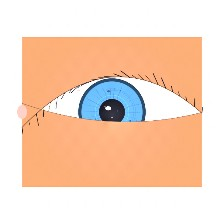pinguecula_lesion: (31, 98, 68, 128)
